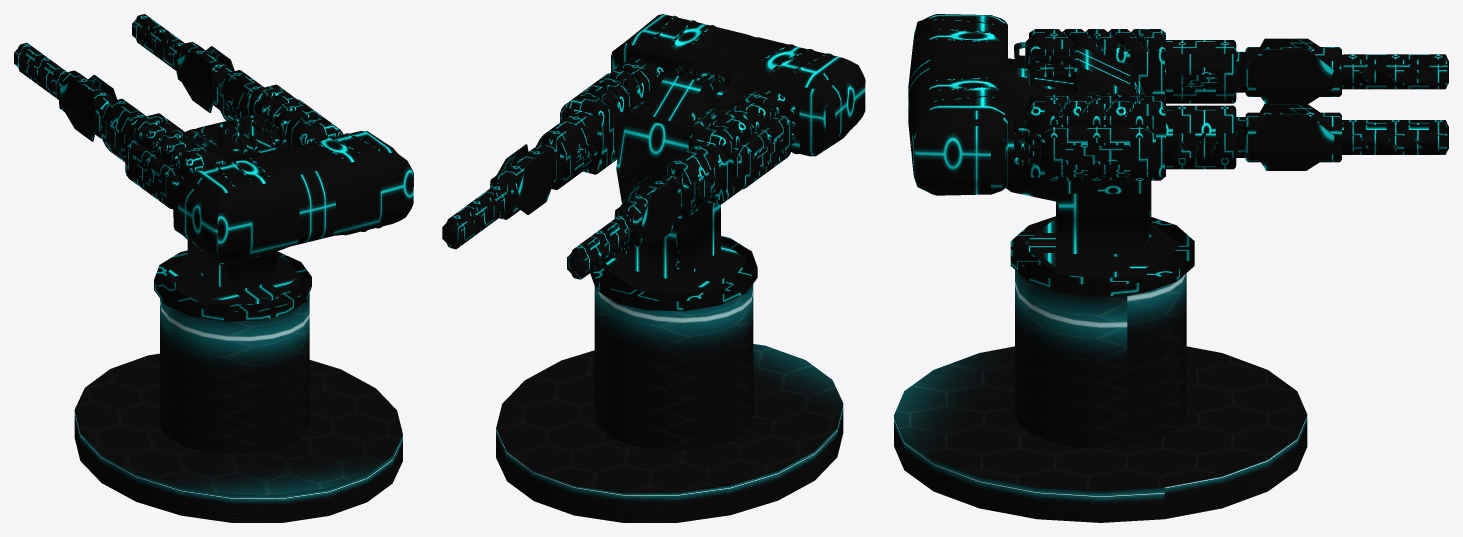
The model's file is sentrygun.fbx.
3 views of the same model, side by side, from view 1: azimuth 30°, elevation 25°; view 2: azimuth 150°, elevation 25°; view 3: azimuth 270°, elevation 25° (orthographic). The views are drawn at different scales.
Visible parts, largest first — view 1: spaceshipturret:Bships_props_teladi_bigturret_base1, pCylinder2, pCylinder1; view 2: spaceshipturret:Bships_props_teladi_bigturret_base1, pCylinder2, pCylinder1; view 3: spaceshipturret:Bships_props_teladi_bigturret_base1, pCylinder2, pCylinder1.
Boxes of the visible parts, left/top/right/bottom form: spaceshipturret:Bships_props_teladi_bigturret_base1: left=14, top=14, right=413, bottom=321; pCylinder2: left=74, top=353, right=402, bottom=522; pCylinder1: left=160, top=293, right=309, bottom=454; spaceshipturret:Bships_props_teladi_bigturret_base1: left=442, top=14, right=865, bottom=311; pCylinder2: left=496, top=344, right=843, bottom=522; pCylinder1: left=594, top=284, right=753, bottom=450; spaceshipturret:Bships_props_teladi_bigturret_base1: left=908, top=14, right=1448, bottom=296; pCylinder2: left=894, top=346, right=1307, bottom=522; pCylinder1: left=1015, top=270, right=1186, bottom=448.
Bounding box in the file's own units: 4.2 × 5 × 6.46.
